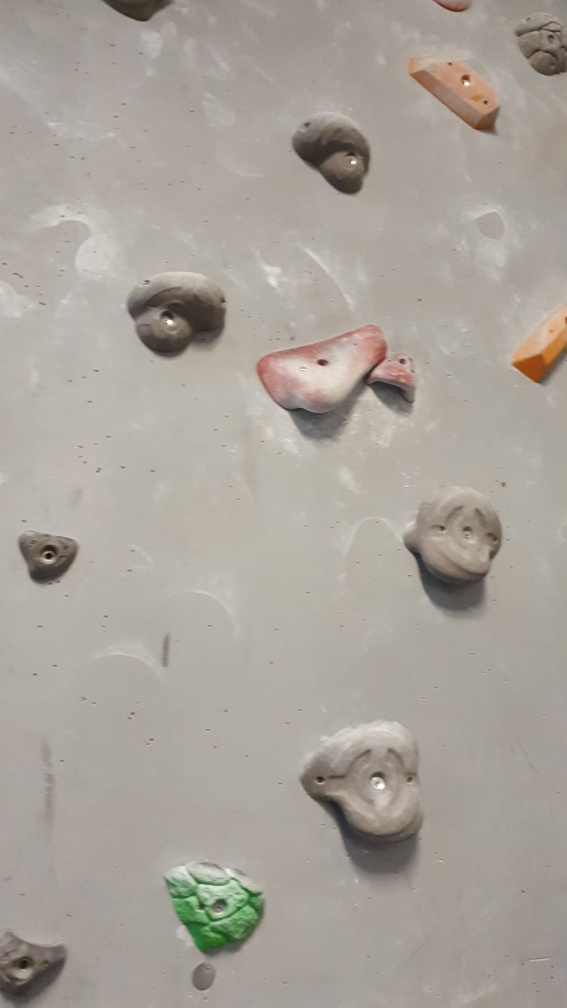Crimp: (14, 524, 81, 590)
Hand Start: (189, 956, 222, 996)
Jug: (295, 719, 425, 846), (401, 484, 504, 589), (126, 269, 228, 362), (290, 109, 376, 196), (511, 14, 567, 80)
Pinch: (404, 51, 503, 136), (506, 294, 567, 387)
